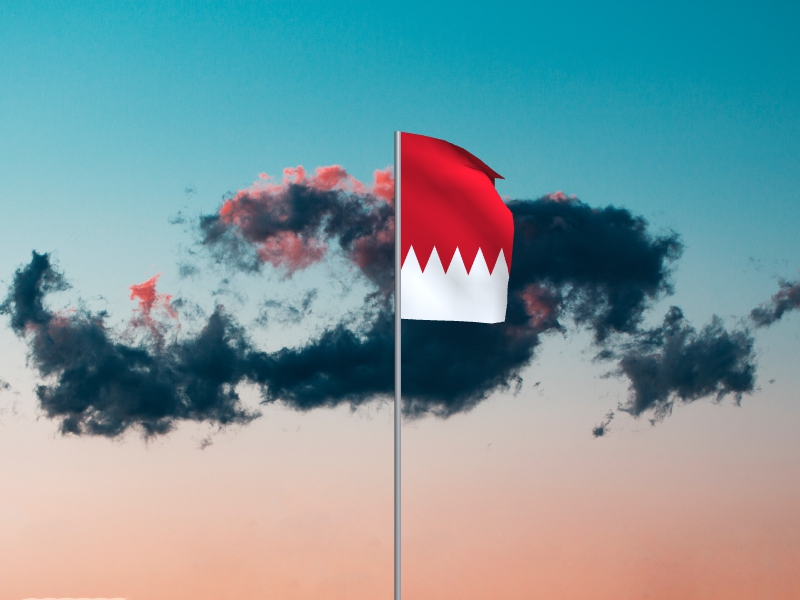bh: (401, 131, 517, 326)
